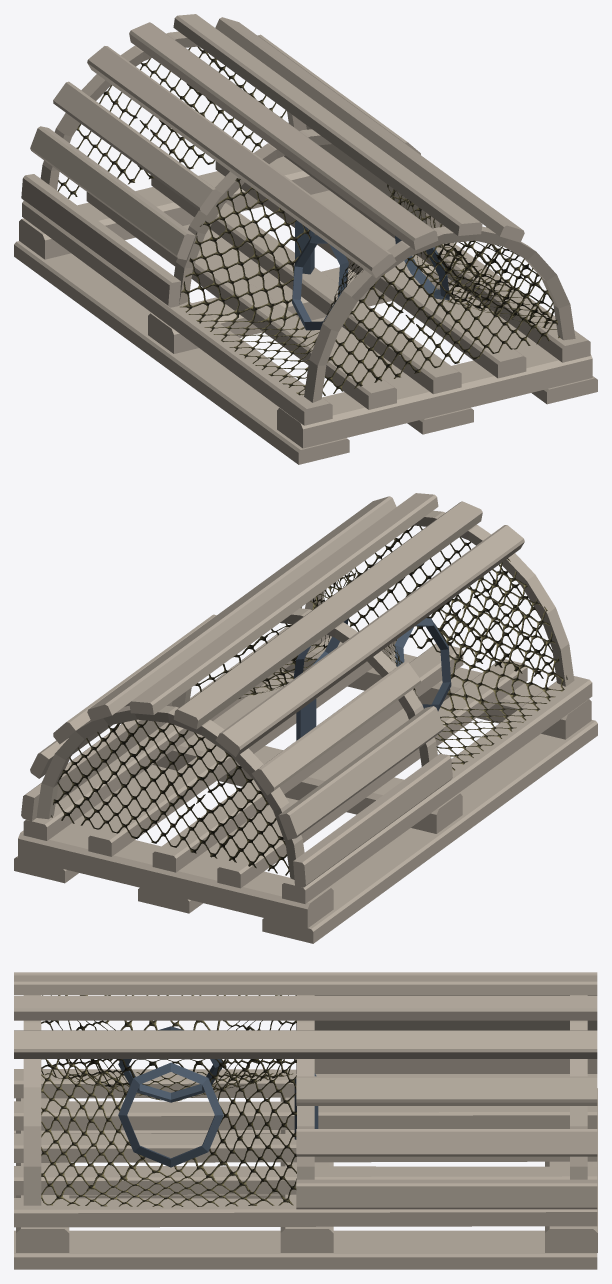
Rendered from lobsterPot.glb.
3 renders of one model, top to bottom at view 1: azimuth 30°, elevation 25°; view 2: azimuth 150°, elevation 25°; view 3: azimuth 270°, elevation 25°, orthographic. The views are drawn at different scales.
Visible parts, largest first — view 1: lobsterpot; view 2: lobsterpot; view 3: lobsterpot.
Boxes of the visible parts, x1,y1,x2,y2 form: lobsterpot: [14, 14, 597, 464]; lobsterpot: [14, 493, 597, 943]; lobsterpot: [14, 972, 597, 1269].
Size of the model in its own units: 0.6029 by 0.3874 by 0.9941.
Materials: 1 (1 with a texture image).
